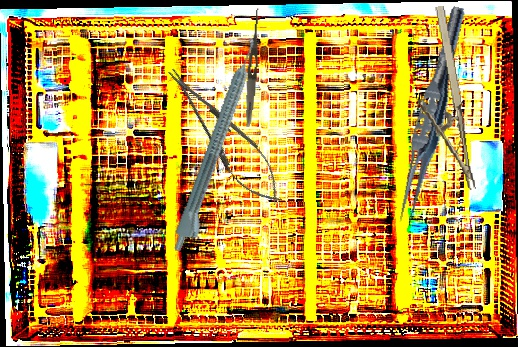Dressing Forceps: (243, 6, 262, 128)
Handpiece: (168, 36, 271, 258)
Needle Holder: (155, 57, 295, 215), (405, 4, 476, 196)
Tissue Forceps: (392, 3, 471, 228)
